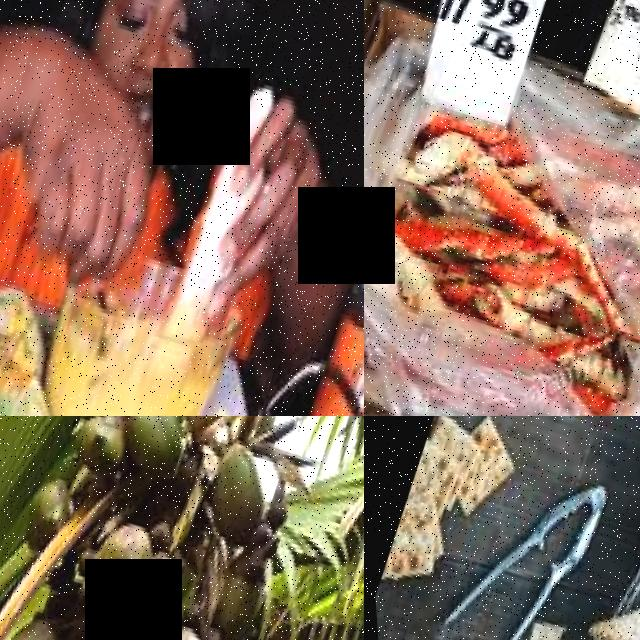coconut: (190, 432, 296, 564), (69, 509, 167, 619), (106, 416, 196, 487), (11, 472, 79, 558)
crab: (366, 111, 640, 378), (574, 416, 640, 640)
